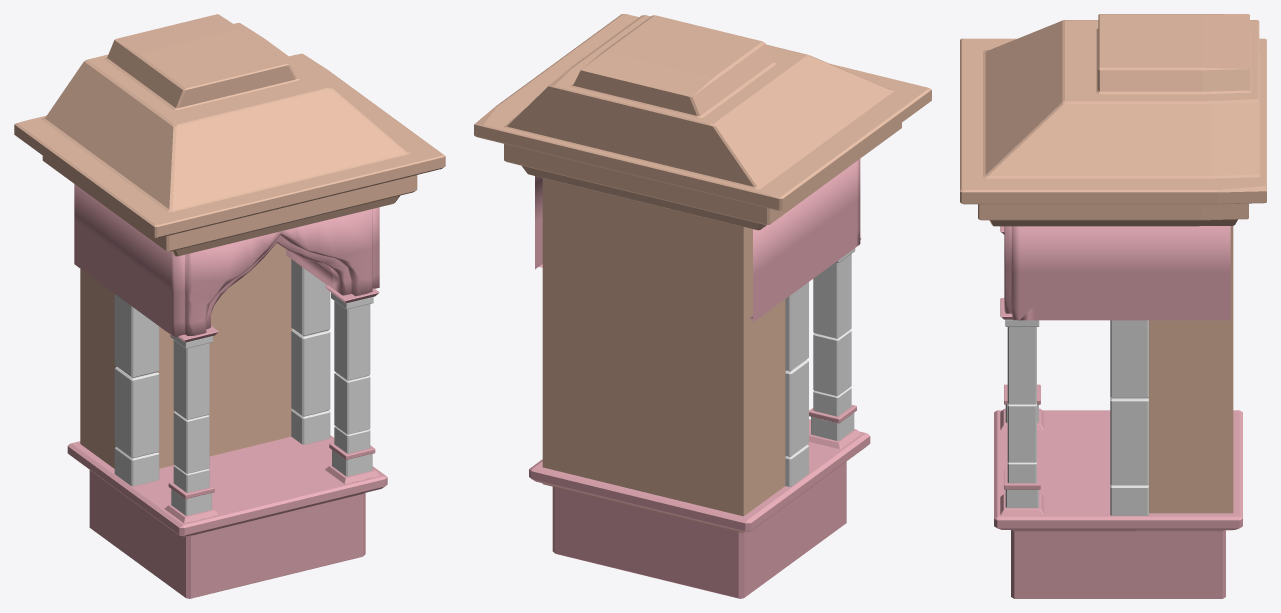
File: fbx_Alcove_02.fbx
The picture shows the model from 3 angles, left to right: view 1: azimuth 30°, elevation 25°; view 2: azimuth 150°, elevation 25°; view 3: azimuth 270°, elevation 25°; orthographic projection. The views are drawn at different scales.
Parts seen in each view (by area): view 1: Cube.001; view 2: Cube.001; view 3: Cube.001.
Part boxes in pixels (x1,y1,x2,y2): Cube.001: (14, 14, 445, 598); Cube.001: (474, 14, 931, 598); Cube.001: (960, 14, 1266, 598).
Size of the model in its own units: 763 by 1184 by 642.
